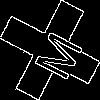M: (25, 25, 84, 83)
